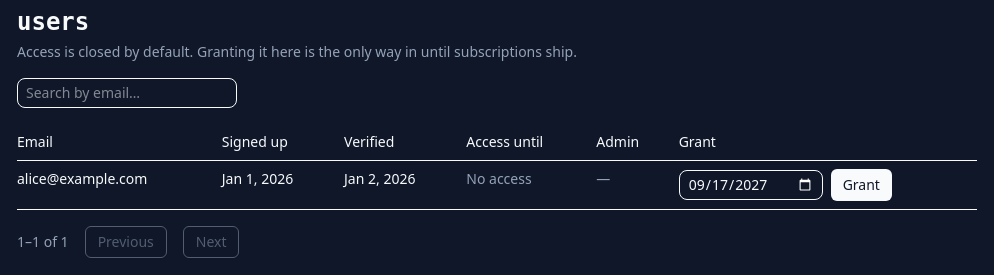
Test: AdminUsers › shows a search-specific empty state when nothing matches
The image size is (994, 275).
Expected: the text "alice@example.com" is shown, [17,160,222,210]
Type "zzz" into the search field named "Search accounts" at (127, 93), box [17,78,237,108]
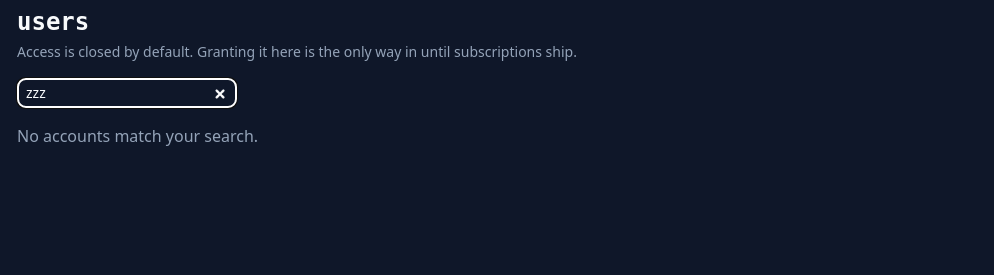
Expected: the text "No accounts match your search." is shown, [17,125,258,147]
